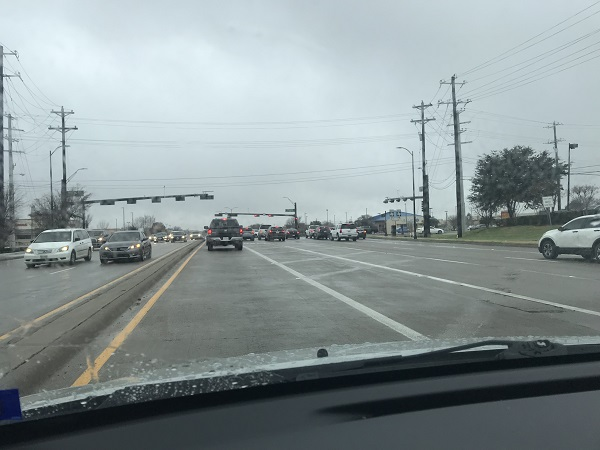car: (536, 214, 600, 260), (25, 227, 94, 266), (99, 232, 150, 262), (327, 222, 357, 238), (267, 226, 285, 240)
truck: (205, 218, 242, 247)
